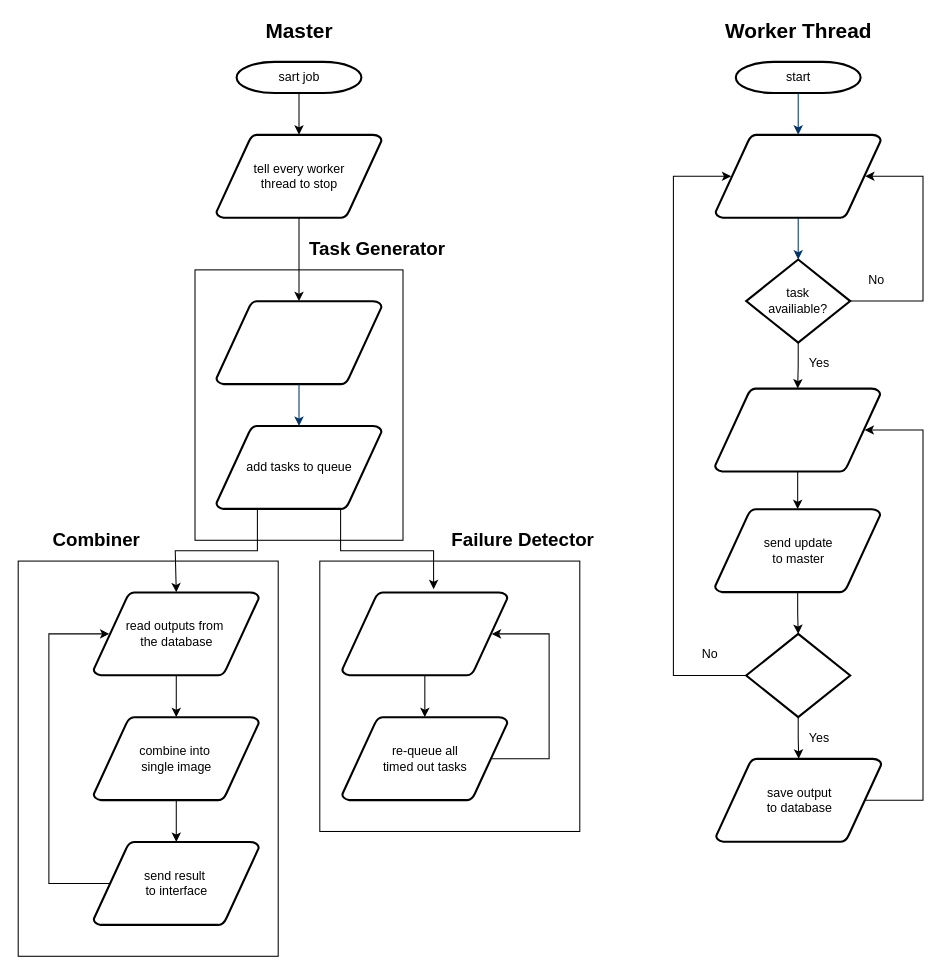
This 950x974 diagram has some shape labels left out. The shapes that lost their labels are listed below. From the top down, each one's box as (x1, y1, x2, y2) in pixels, then its label:
(714, 133, 881, 218): pull task from queue
(215, 300, 382, 385): clear the database & generate tasks
(713, 387, 881, 472): generate & evaluate population
(341, 591, 508, 676): check for timed out tasks
(745, 632, 851, 718): success?
